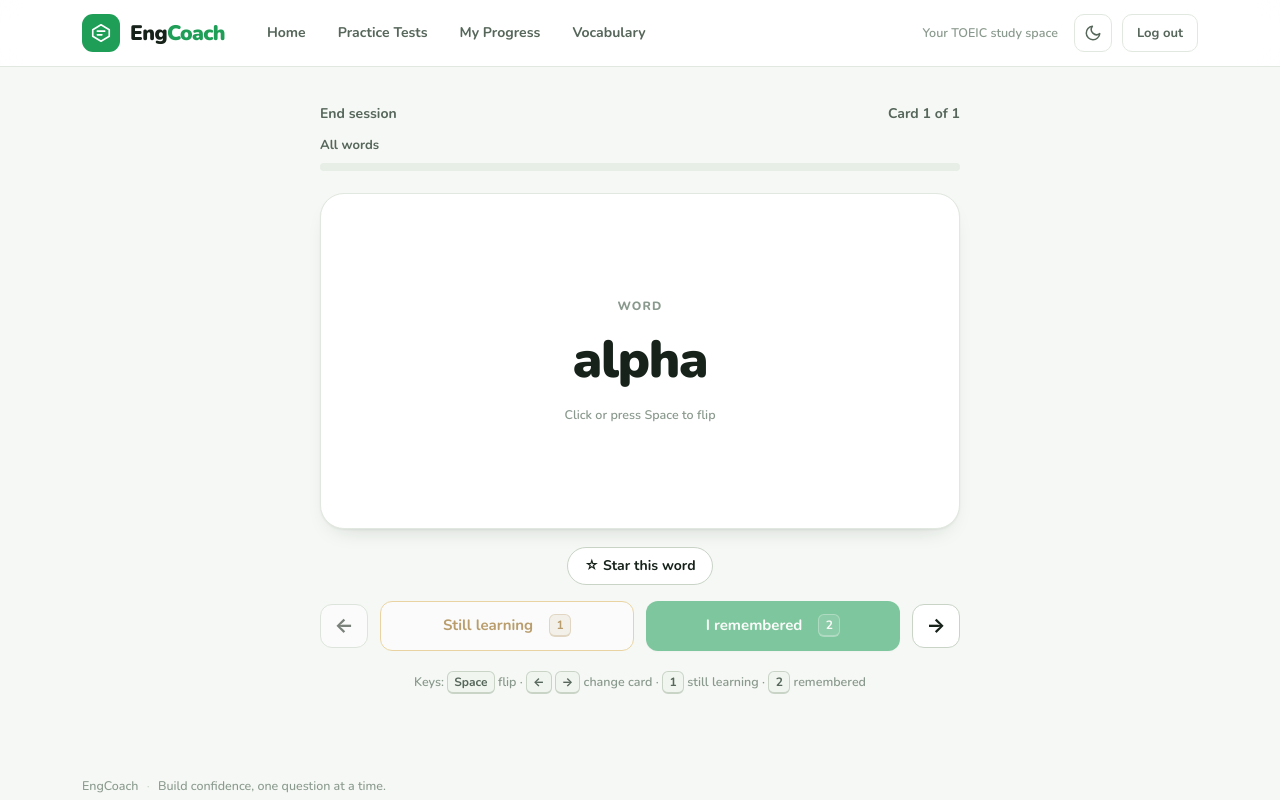
Test: Flashcards page › keeps the card and shows an error when an answer cannot be saved
Click the button with aria-label "Show meaning": (640, 361) x1=320 y1=193 x2=960 y2=529
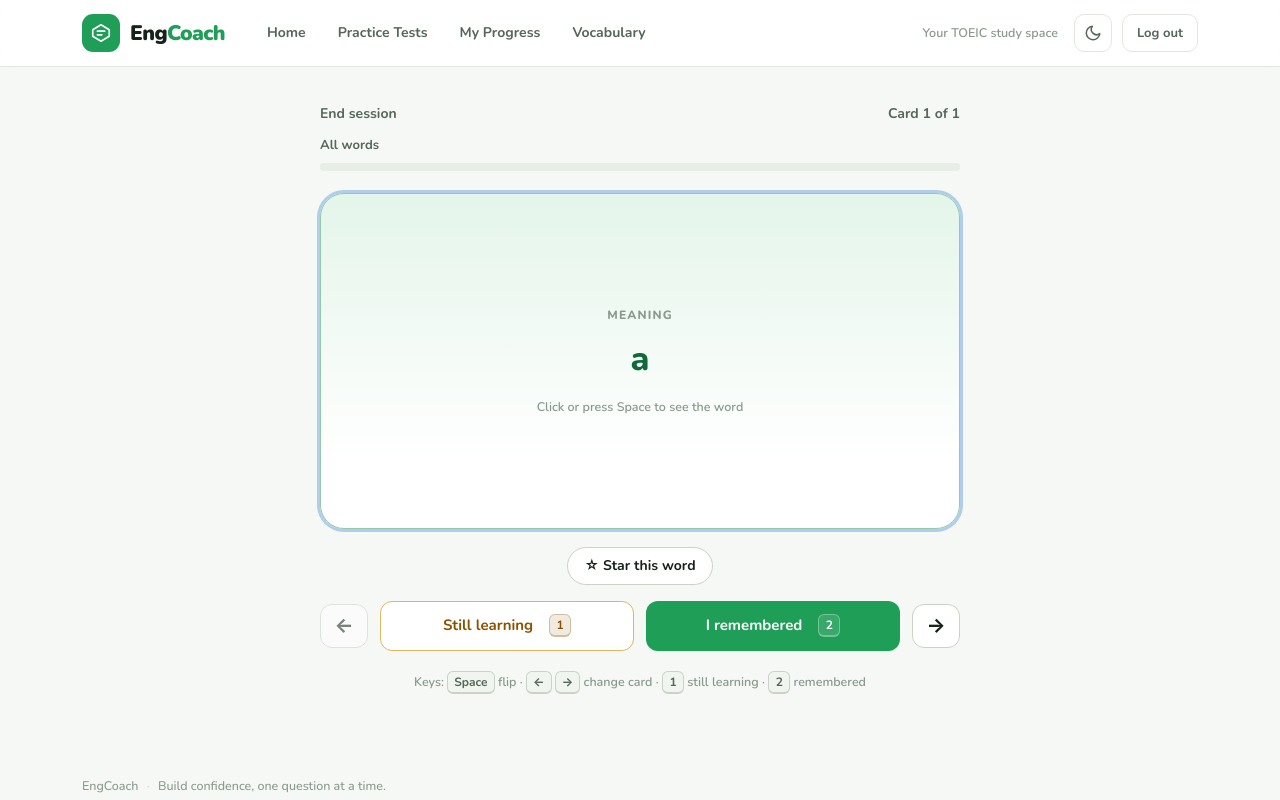
Click the button "I remembered 2": (773, 626) x1=646 y1=600 x2=900 y2=650
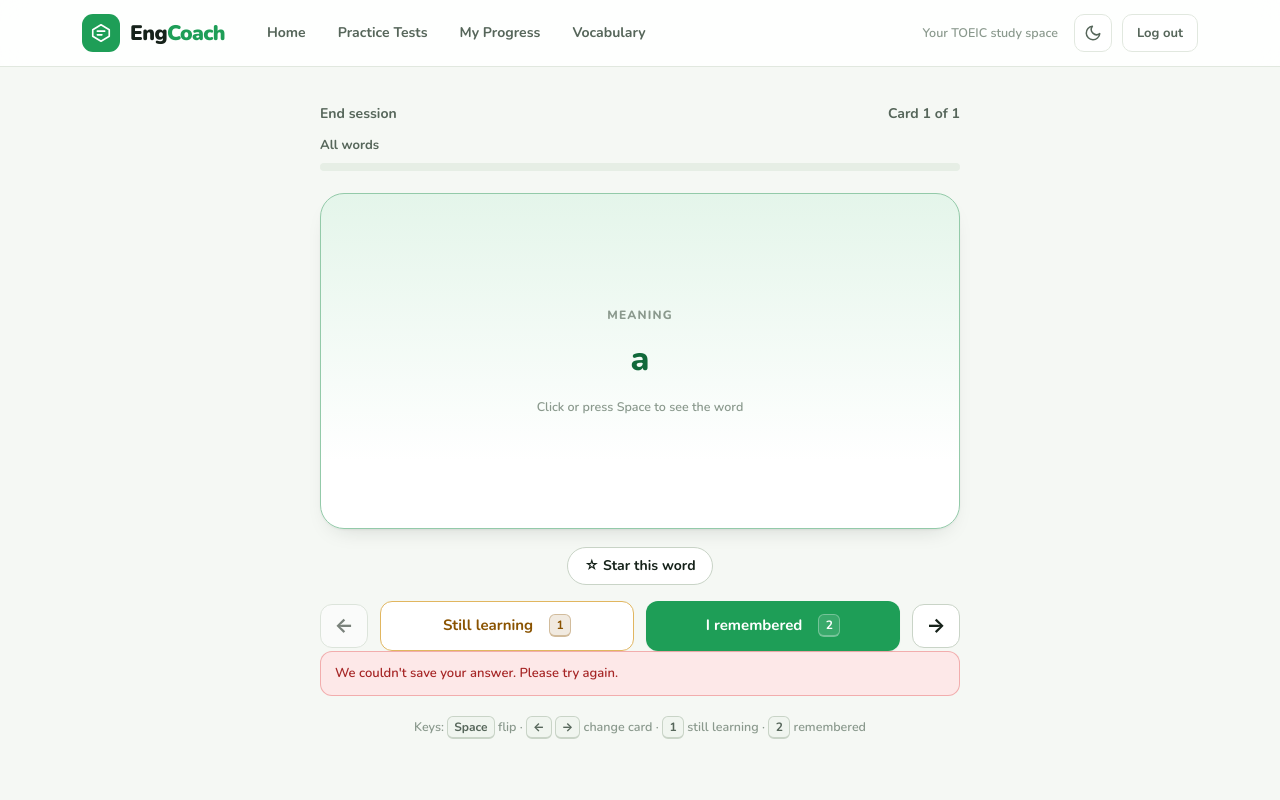
Expected: the text "Card 1 of 1" is shown, x1=888 y1=103 x2=960 y2=125
Now the message shows "couldn't save your answer", box x1=335 y1=664 x2=618 y2=682
